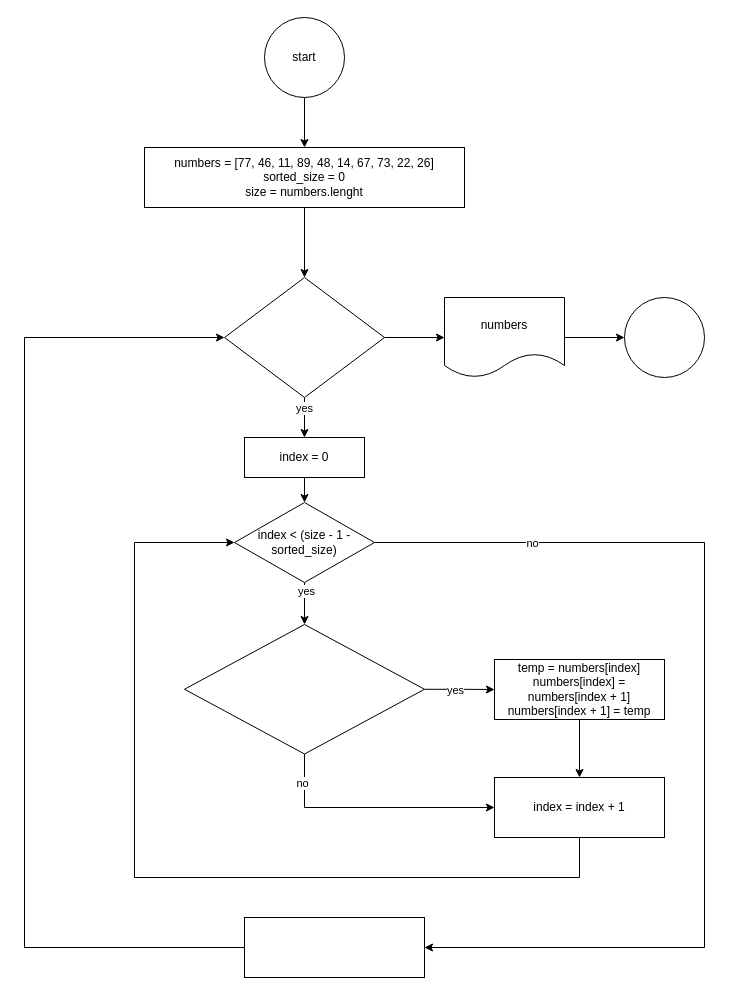
The diagram is 730 pixels wide and 995 high, and some of its shapes have lost their labels. The shapes that lost their labels are listed below. From the top down, each one's box as (x1, y1, x2, y2) in pixels, then its label:
(224, 276, 384, 398): sorted_size < size
(624, 296, 704, 378): end
(184, 624, 424, 754): numbers[index] > numbers[index + 1]
(244, 916, 424, 978): sorted_size = sorted_size + 1
